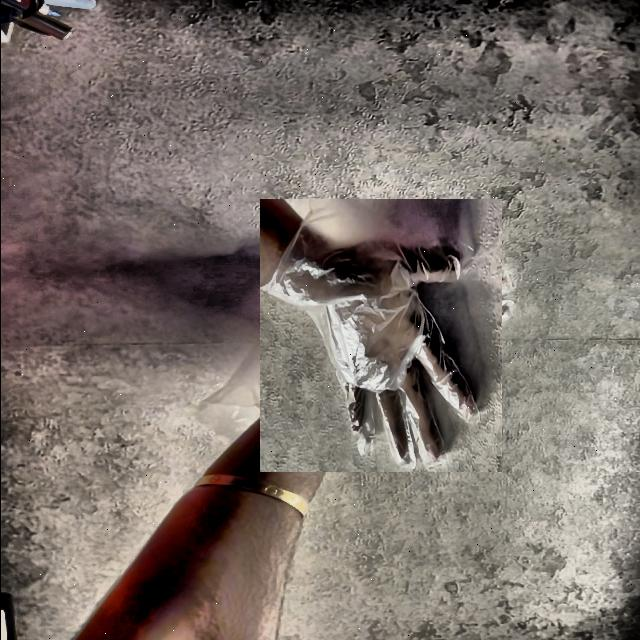gloved: (251, 206, 509, 464)
